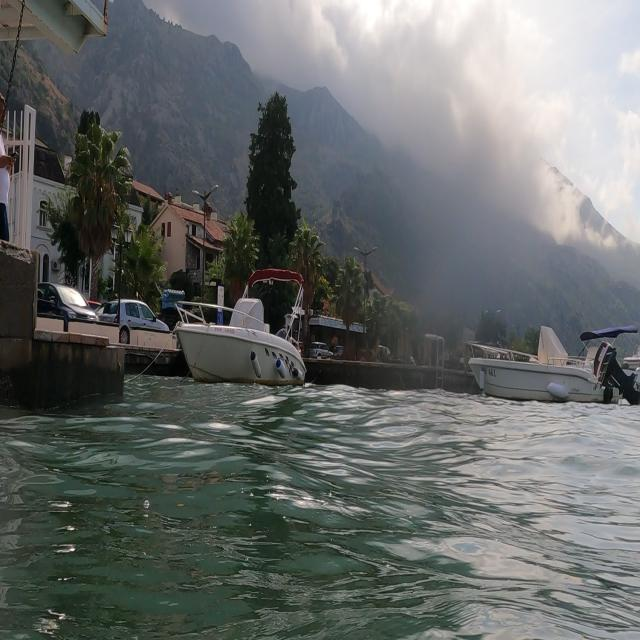boat: (457, 314, 640, 430), (172, 264, 310, 390)
